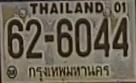0: (74, 17, 90, 56)
2: (26, 18, 42, 58)
4: (112, 16, 128, 56), (93, 17, 109, 56)
6: (56, 18, 72, 57), (7, 19, 23, 58)
BKK: (26, 64, 111, 79)
